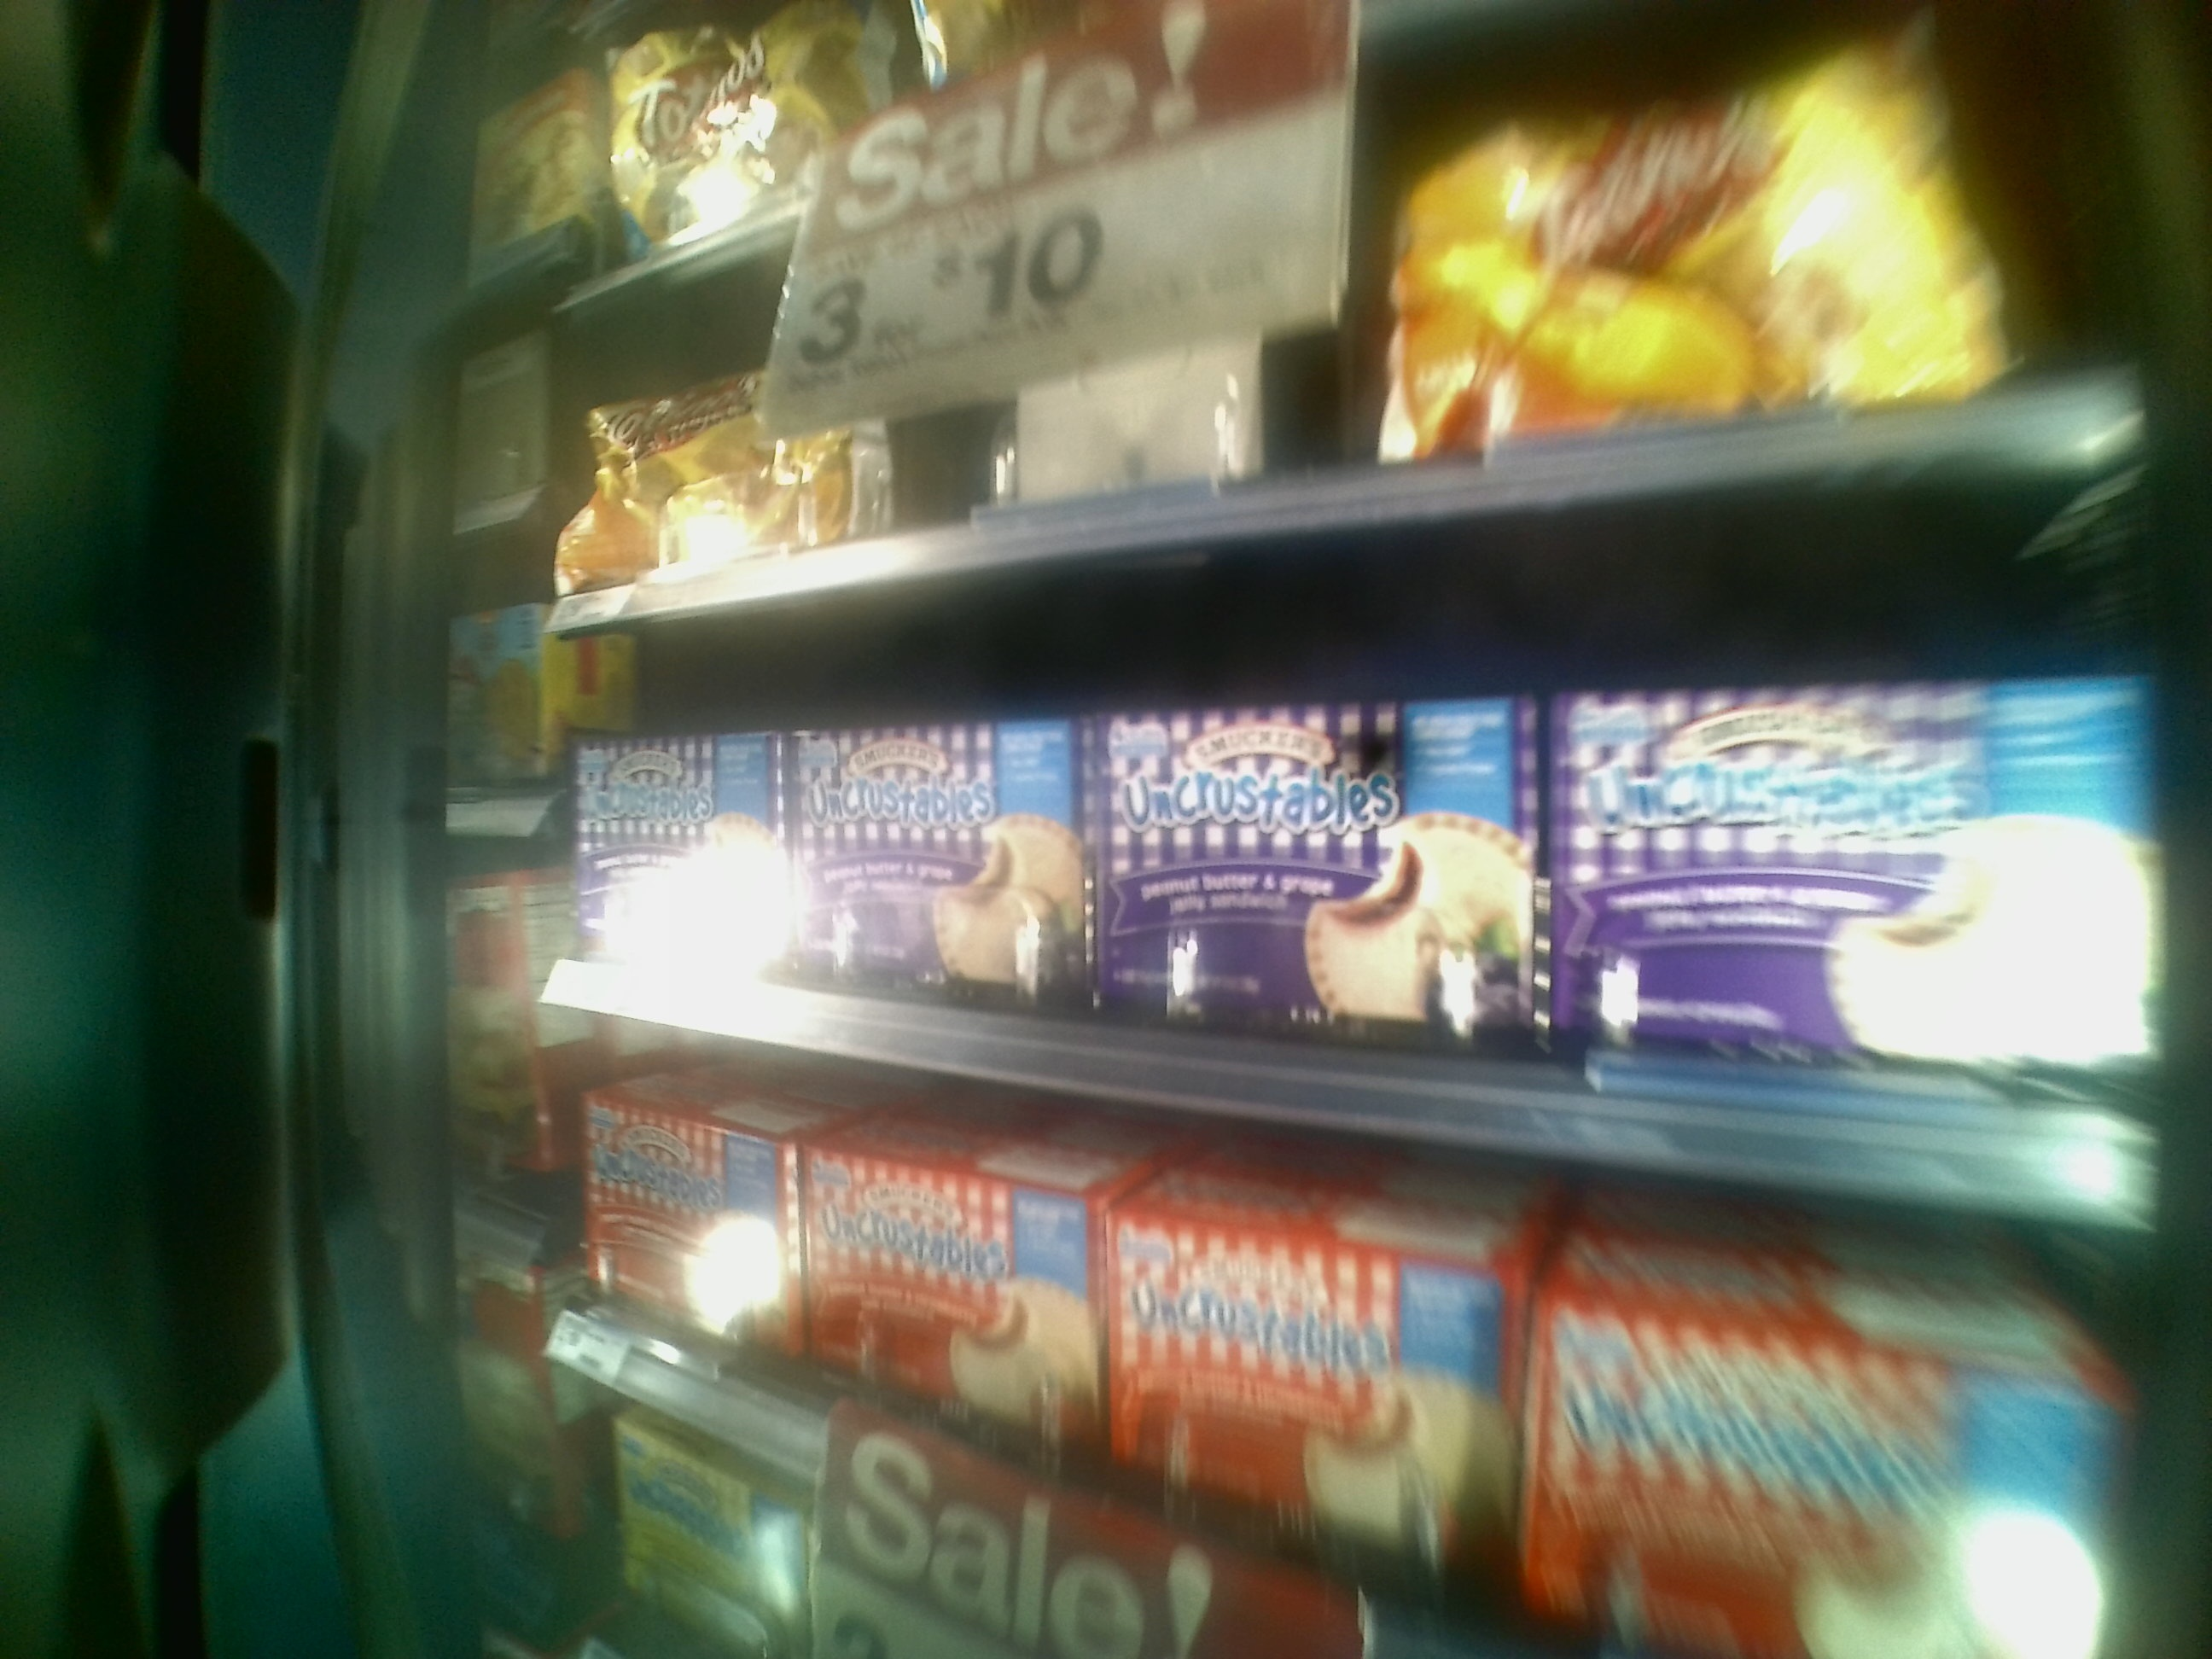shelf: (542, 561, 2161, 1209)
